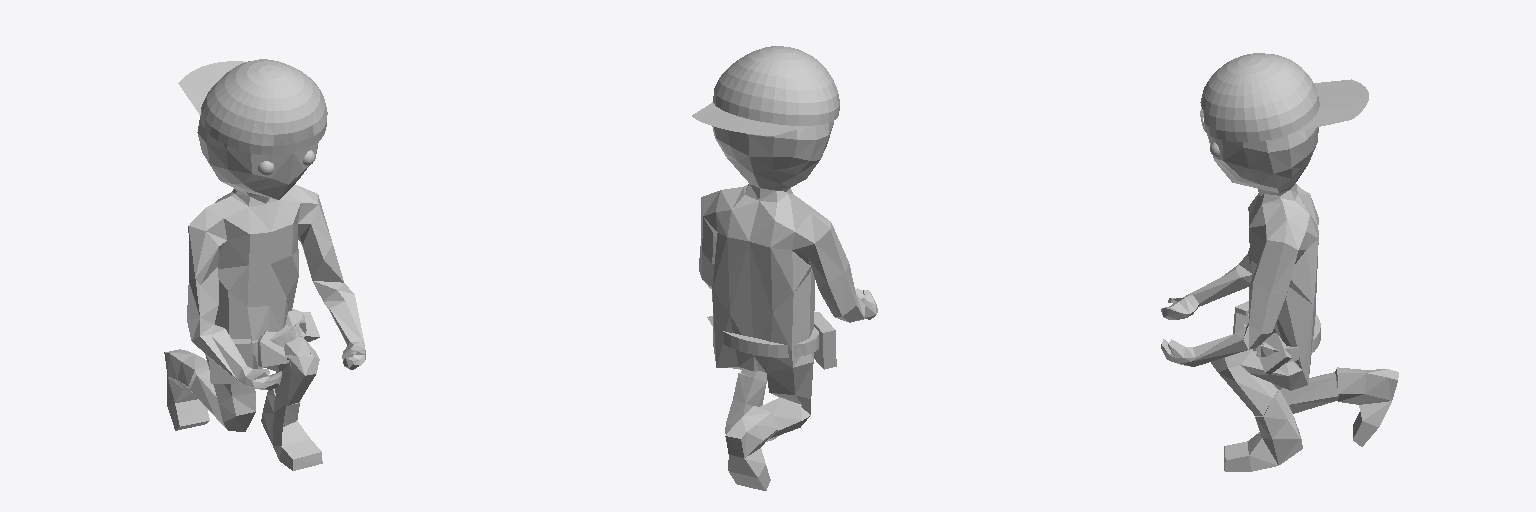
File: Main_Character_TireRepair_4.obj
3 views of the same model, side by side, from view 1: azimuth 30°, elevation 25°; view 2: azimuth 150°, elevation 25°; view 3: azimuth 270°, elevation 25° (orthographic).
Visible parts, largest first — view 1: Main_Character_Test.003_Main_Character_Test.004; view 2: Main_Character_Test.003_Main_Character_Test.004; view 3: Main_Character_Test.003_Main_Character_Test.004.
Boxes of the visible parts, box(x1,y1,x2,y2) form: Main_Character_Test.003_Main_Character_Test.004: box(164, 59, 365, 470); Main_Character_Test.003_Main_Character_Test.004: box(692, 46, 877, 490); Main_Character_Test.003_Main_Character_Test.004: box(1161, 53, 1398, 471).
Bounding box in the file's own units: 1.43 × 3.34 × 1.83.